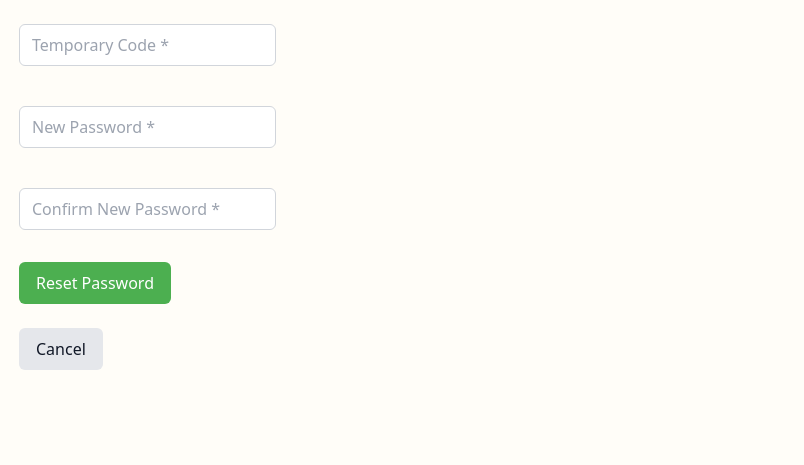
ResetPasswordForm › dismisses alert after validation error
The image size is (804, 465).
Click the button "Reset Password". click: (95, 283)
box: [19,262,171,304]
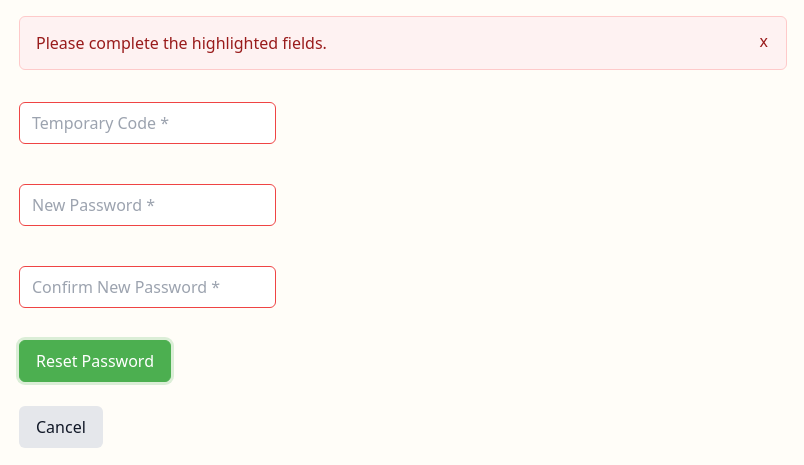
Click the button named "dismiss alert". click: (764, 41)
box: [758,31,770,51]
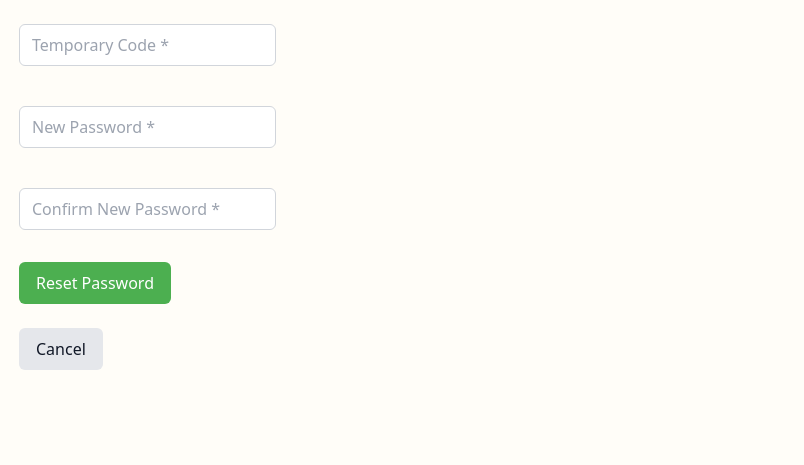
Now the message "Please complete the highlighted fields. x" is gone
